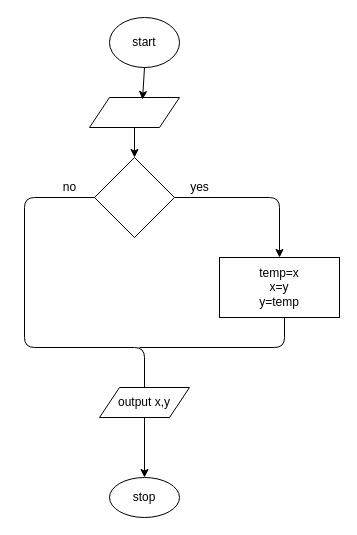
Some shapes in this 357 by 535 pixel diagram are drawn without their labels. The shapes that lost their labels are listed below. From the top down, each one's centre as x and y in pixels, then its label:
At (x=134, y=112): "input a,b".
At (x=134, y=197): "if x>y".
